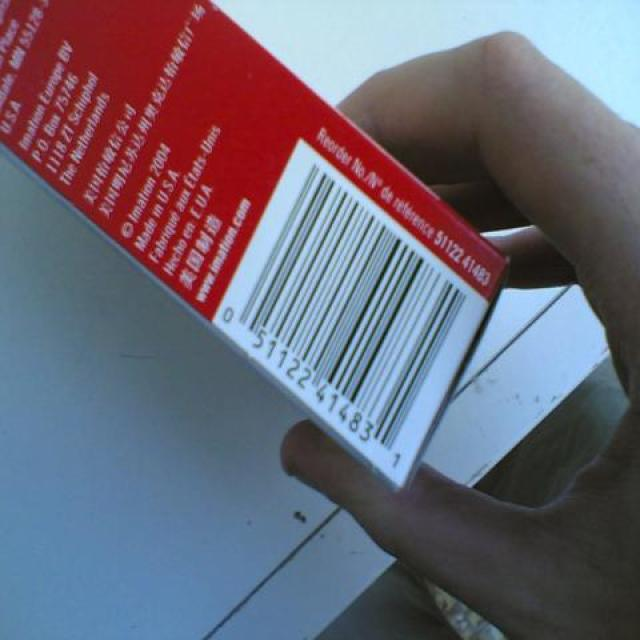Barcode: (214, 138, 491, 491)
